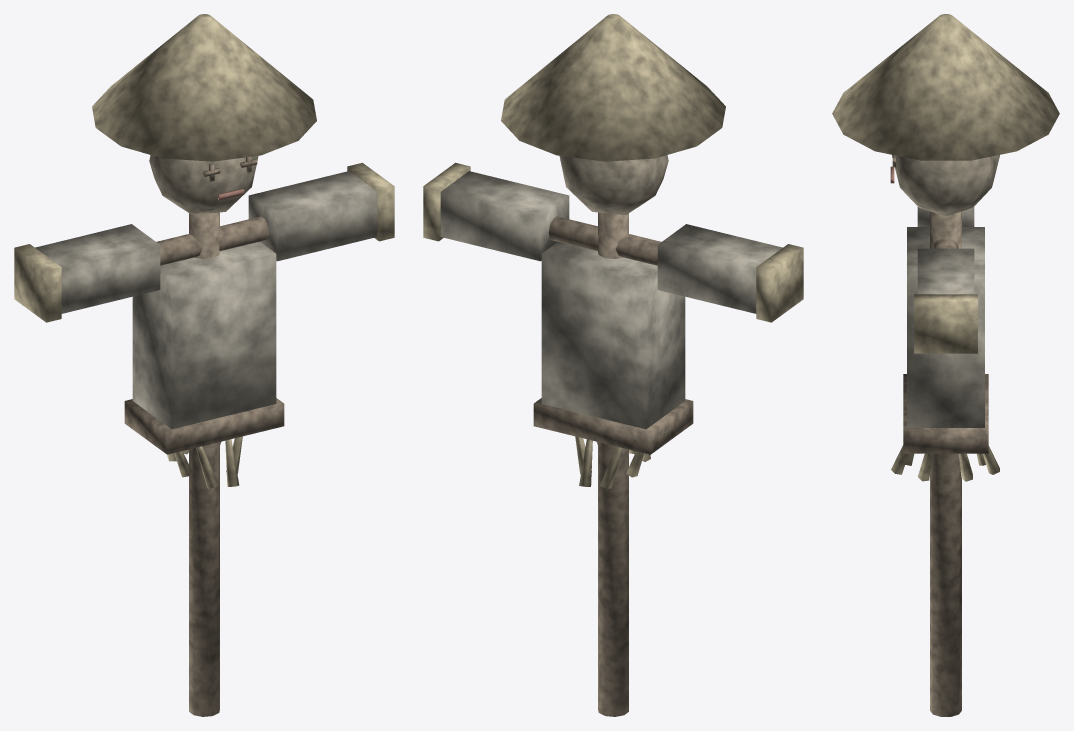
File: prop_scarecrow.obj
3 renders of one model, left to right at view 1: azimuth 30°, elevation 25°; view 2: azimuth 150°, elevation 25°; view 3: azimuth 270°, elevation 25°, orthographic.
Visible parts, largest first — view 1: prop_scarecrow; view 2: prop_scarecrow; view 3: prop_scarecrow.
Boxes of the visible parts, box(x1,y1,x2,y2) form: prop_scarecrow: box(14, 14, 394, 716); prop_scarecrow: box(423, 14, 803, 716); prop_scarecrow: box(832, 14, 1059, 716).
Size of the model in its own units: 1.13 by 2.15 by 0.64.
Materials: 1 (1 with a texture image).
